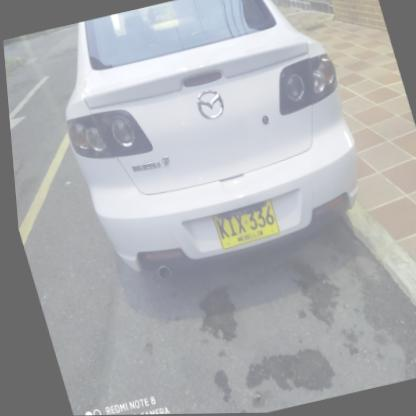placa: (202, 196, 282, 252)
